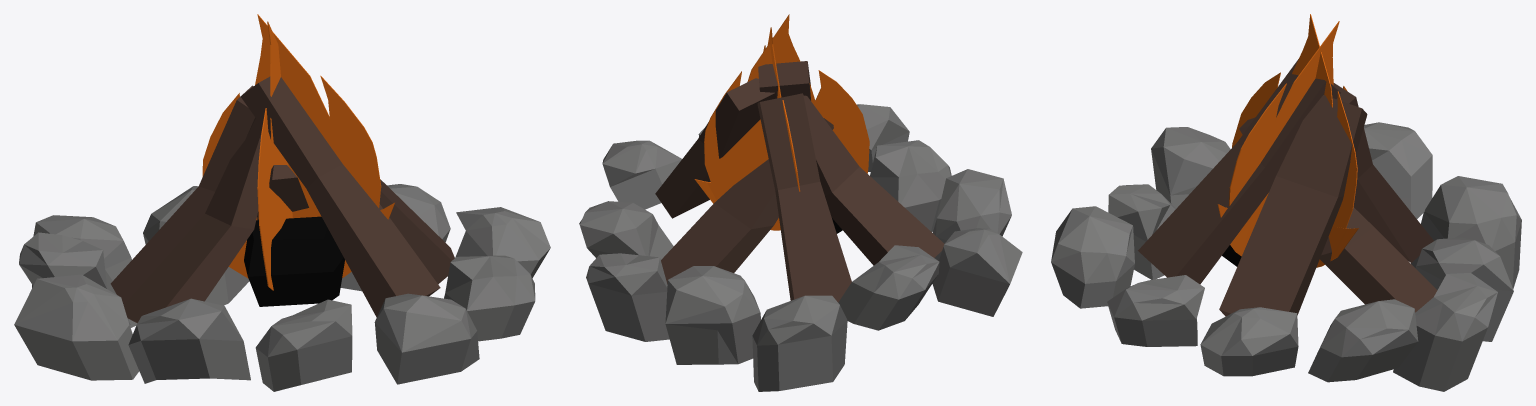
File: fogueira.gltf
3 renders of one model, left to right at view 1: azimuth 30°, elevation 25°; view 2: azimuth 150°, elevation 25°; view 3: azimuth 270°, elevation 25°, orthographic. The views are drawn at different scales.
Visible parts, largest first — view 1: Fogueira.002_Cubo.001; view 2: Fogueira.002_Cubo.001; view 3: Fogueira.002_Cubo.001.
Boxes of the visible parts, <box> form: Fogueira.002_Cubo.001: <box>14,14,550,391</box>; Fogueira.002_Cubo.001: <box>579,14,1022,391</box>; Fogueira.002_Cubo.001: <box>1051,14,1521,391</box>.
Bounding box in the file's own units: 0.6316 × 0.4092 × 0.5556.
